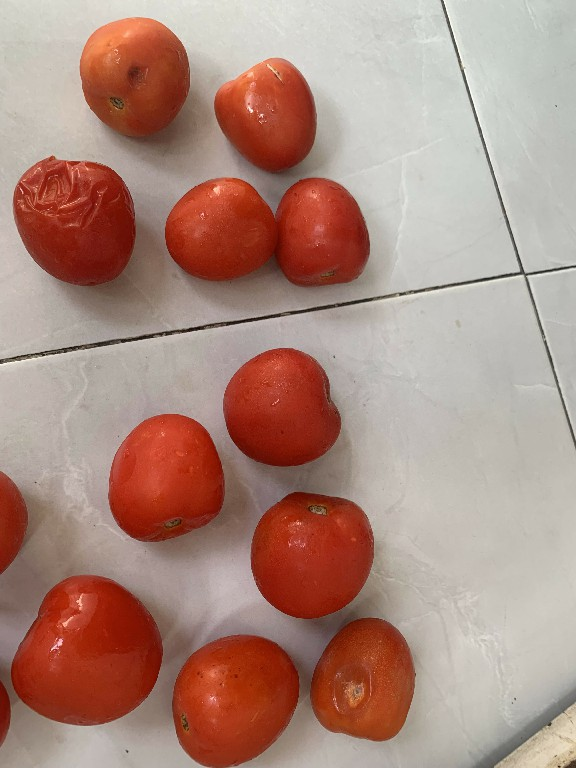NG: (12, 154, 146, 296), (202, 49, 328, 173), (74, 8, 188, 145), (308, 617, 419, 746)
OK: (5, 566, 166, 737), (106, 406, 234, 554), (248, 484, 380, 620), (173, 631, 297, 768), (221, 344, 342, 470), (273, 166, 383, 292), (166, 177, 275, 289)
